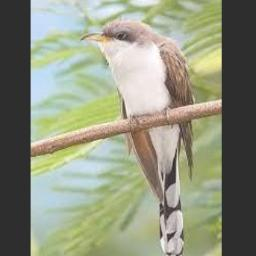Cuckoo: (81, 19, 195, 256)
